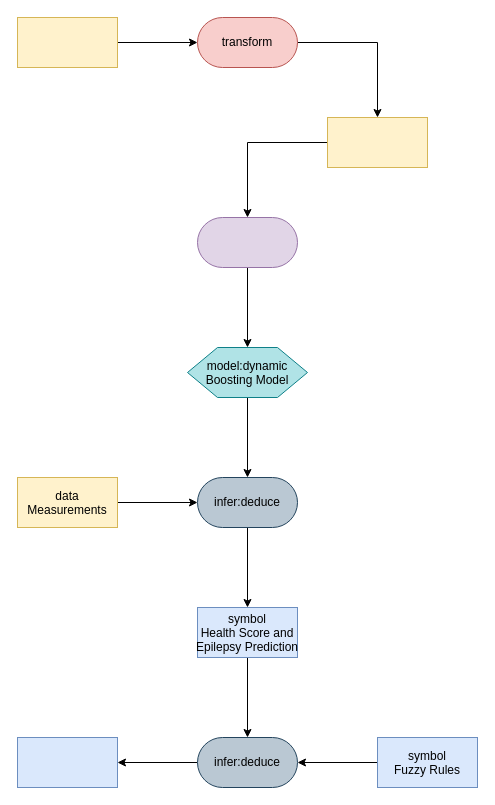
The diagram is 495 pixels wide and 805 high, and some of its shapes have lost their labels. Each missing label, with the box of its shape:
data Extracted Features: (326, 116, 428, 168)
data Raw Measurements: (16, 16, 118, 68)
generate:train: (196, 216, 298, 268)
symbol Diagnosis and Treatment: (16, 736, 118, 788)
